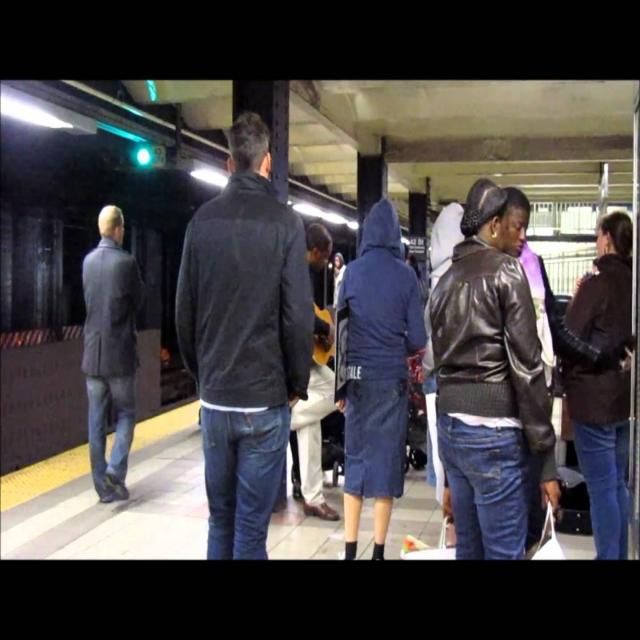body: (173, 111, 317, 559), (501, 184, 638, 561), (428, 177, 562, 560), (333, 194, 427, 561), (559, 208, 633, 560), (79, 202, 147, 508), (288, 221, 344, 522), (418, 201, 467, 507), (328, 235, 412, 305)
